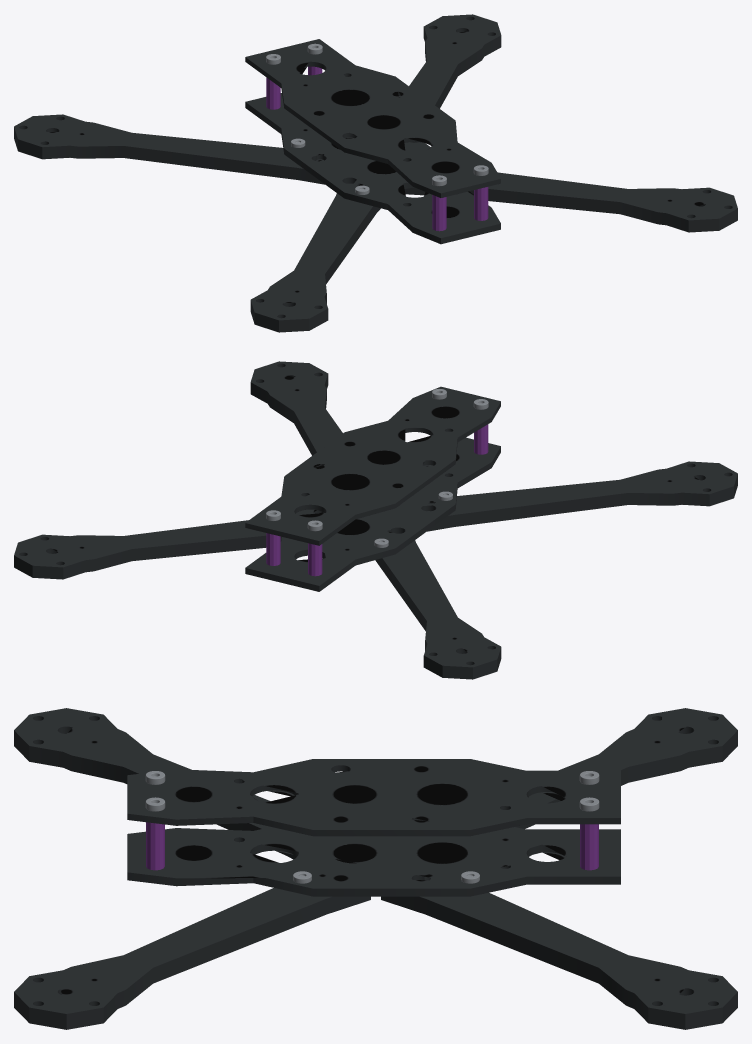
File: Frame_R1.fbx
3 views of the same model, one above another, from view 1: azimuth 30°, elevation 25°; view 2: azimuth 150°, elevation 25°; view 3: azimuth 270°, elevation 25° (orthographic). The views are drawn at different scales.
Parts seen in each view (by area): view 1: FPV_Frame_Baked; view 2: FPV_Frame_Baked; view 3: FPV_Frame_Baked.
Boxes of the visible parts, x1=… form: FPV_Frame_Baked: x1=14, y1=14, x2=737, y2=332; FPV_Frame_Baked: x1=14, y1=361, x2=737, y2=679; FPV_Frame_Baked: x1=14, y1=708, x2=737, y2=1029.
Bounding box in the file's own units: 20.68 × 2.8 × 20.68.
1 material, 1 textured.
